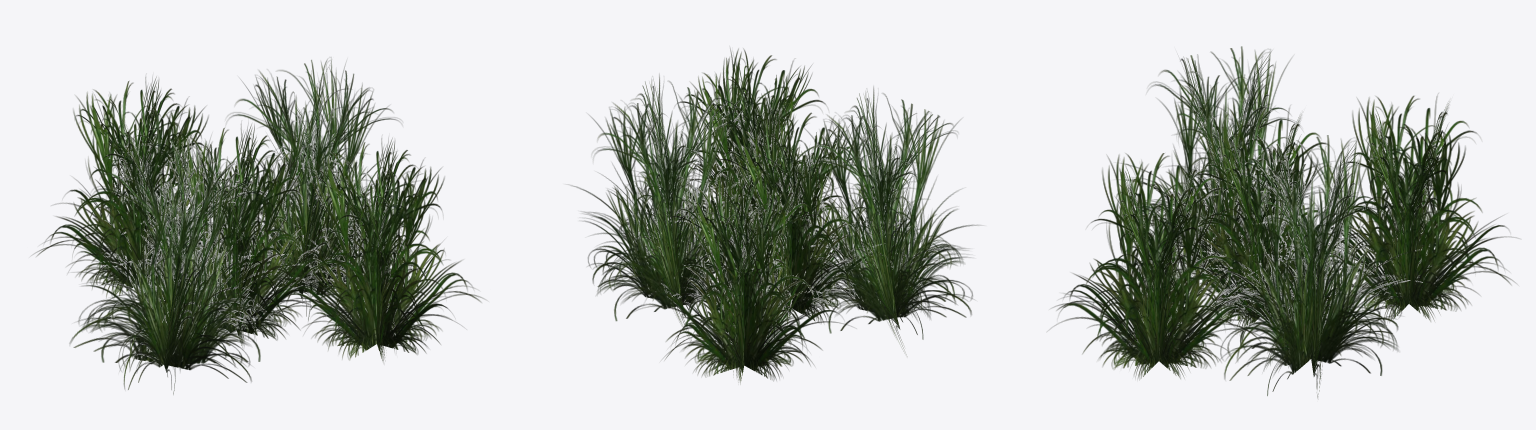
3 renders of one model, left to right at view 1: azimuth 30°, elevation 25°; view 2: azimuth 150°, elevation 25°; view 3: azimuth 270°, elevation 25°, orthographic. The views are drawn at different scales.
Visible parts, largest first — view 1: group_2_grass_01_0, group_3_grass_02_0, group_1_grass_02_0, group_0_grass_01_0, group_4_grass_02_0; view 2: group_2_grass_01_0, group_1_grass_02_0, group_0_grass_01_0, group_4_grass_02_0, group_3_grass_02_0; view 3: group_0_grass_01_0, group_3_grass_02_0, group_1_grass_02_0, group_4_grass_02_0, group_2_grass_01_0.
Part boxes in pixels (bbox=[...]): group_2_grass_01_0: bbox=[69, 131, 285, 394]; group_3_grass_02_0: bbox=[270, 138, 485, 361]; group_1_grass_02_0: bbox=[33, 77, 222, 298]; group_0_grass_01_0: bbox=[209, 57, 414, 320]; group_4_grass_02_0: bbox=[134, 123, 330, 347]; group_2_grass_01_0: bbox=[803, 86, 980, 354]; group_1_grass_02_0: bbox=[632, 163, 852, 383]; group_0_grass_01_0: bbox=[570, 74, 754, 340]; group_4_grass_02_0: bbox=[716, 106, 889, 324]; group_3_grass_02_0: bbox=[649, 48, 845, 240]; group_0_grass_01_0: bbox=[1204, 135, 1416, 397]; group_3_grass_02_0: bbox=[1048, 150, 1264, 379]; group_1_grass_02_0: bbox=[1330, 93, 1518, 322]; group_4_grass_02_0: bbox=[1177, 107, 1363, 332]; group_2_grass_01_0: bbox=[1119, 46, 1332, 287].
Size of the model in its own units: 174 by 93.42 by 185.
2 materials, 2 textured.
